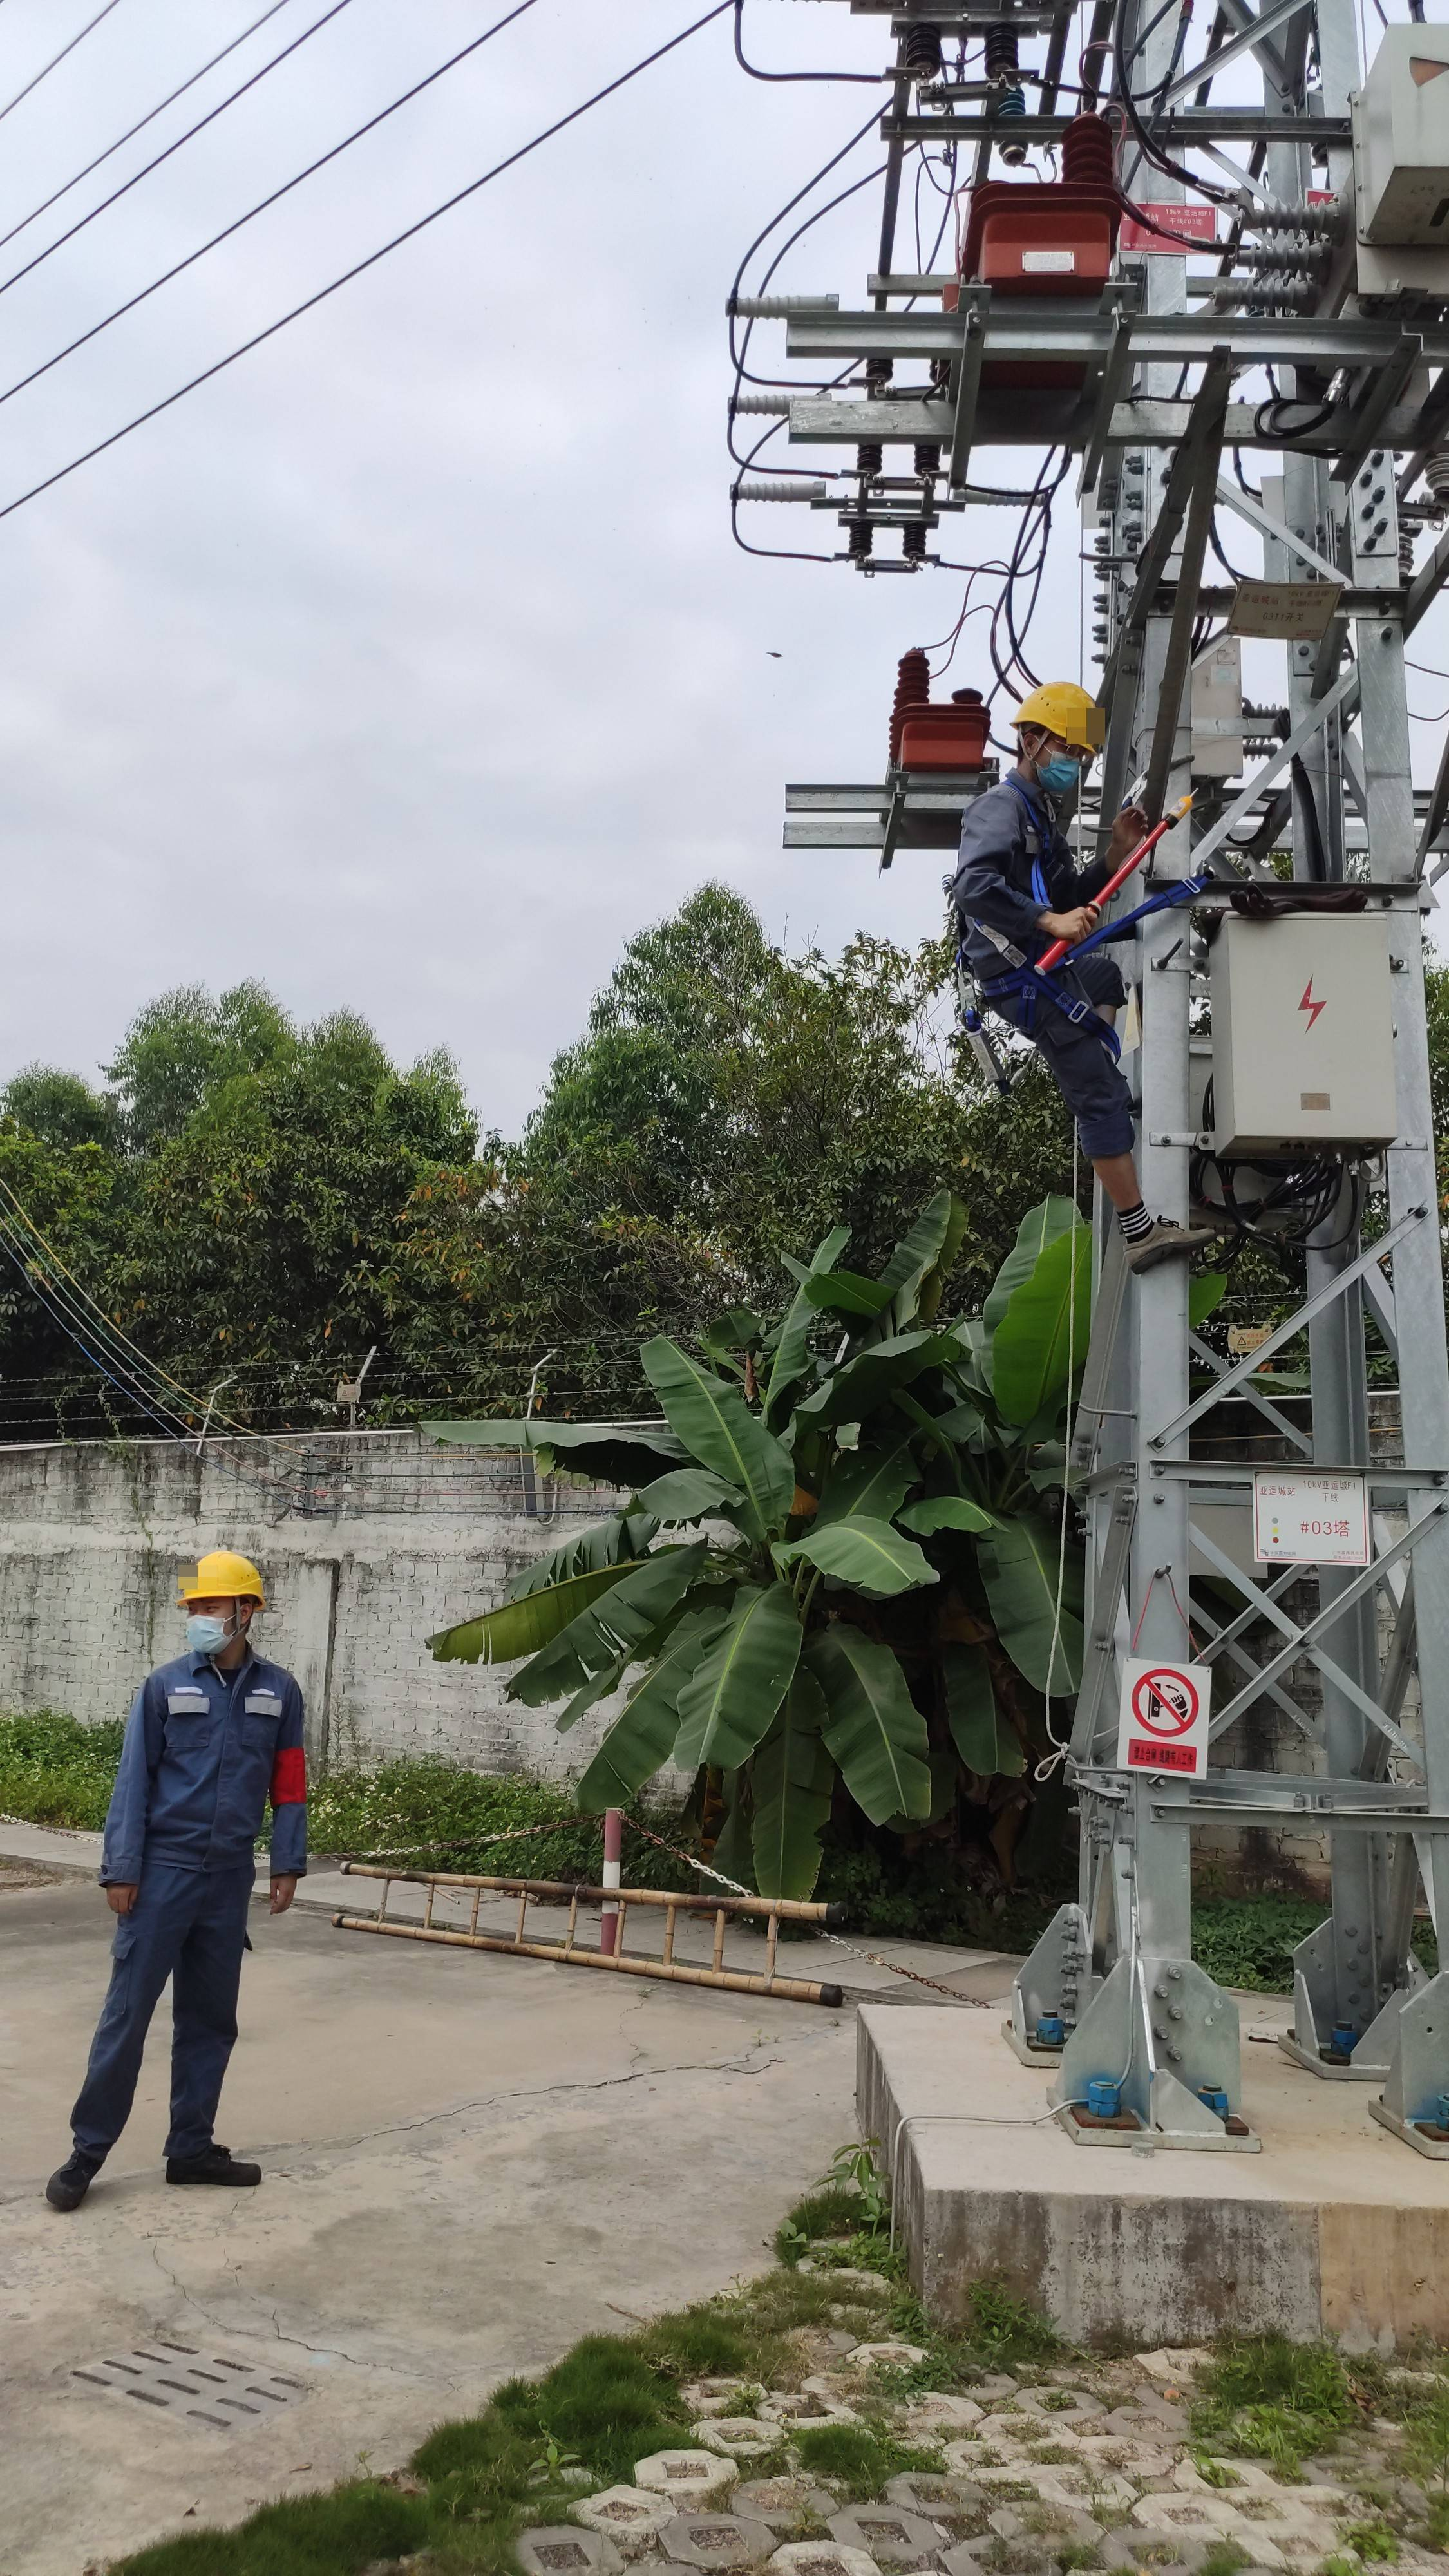downsuit: (76, 1895, 257, 2162), (1003, 973, 1150, 1210)
upsuit: (96, 1647, 317, 1881), (948, 775, 1092, 970)
wrongbottom: (1083, 1120, 1146, 1228)
